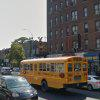Bus: (16, 52, 89, 91)
